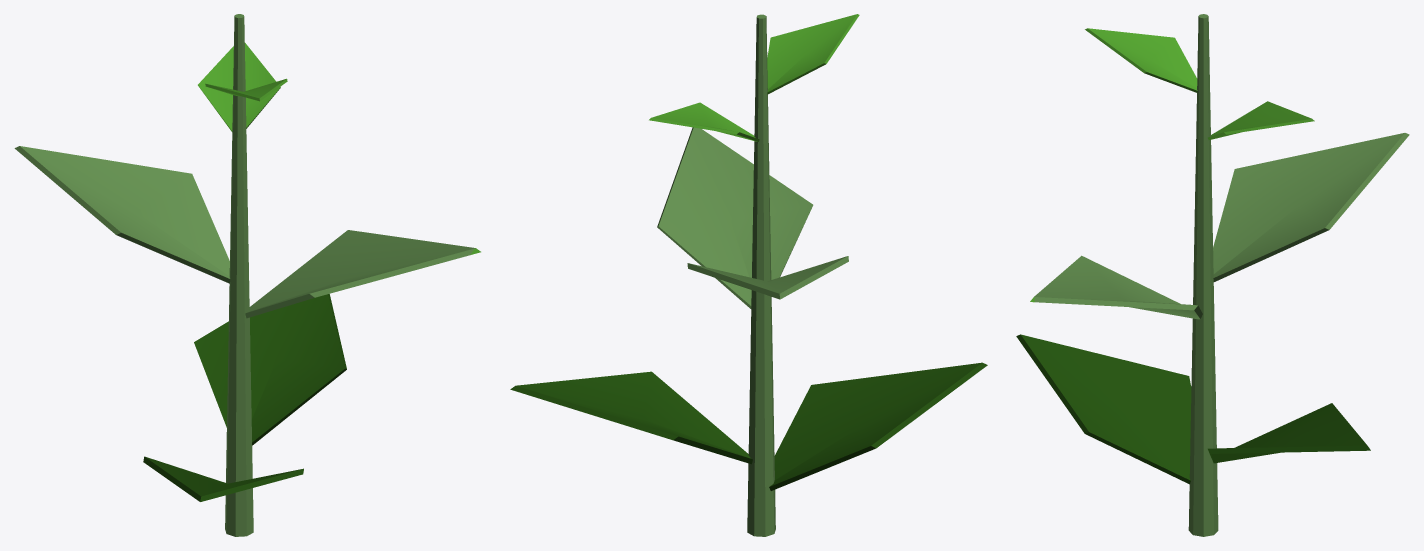
File: Plant2.fbx
3 views of the same model, side by side, from view 1: azimuth 30°, elevation 25°; view 2: azimuth 150°, elevation 25°; view 3: azimuth 270°, elevation 25° (orthographic).
Parts seen in each view (by area): view 1: Plant2; view 2: Plant2; view 3: Plant2.
Boxes of the visible parts, left/top/right/bottom form: Plant2: left=14, top=14, right=480, bottom=536; Plant2: left=510, top=14, right=987, bottom=536; Plant2: left=1016, top=14, right=1409, bottom=536.
Size of the model in its own units: 2.81 by 4.59 by 3.18.
